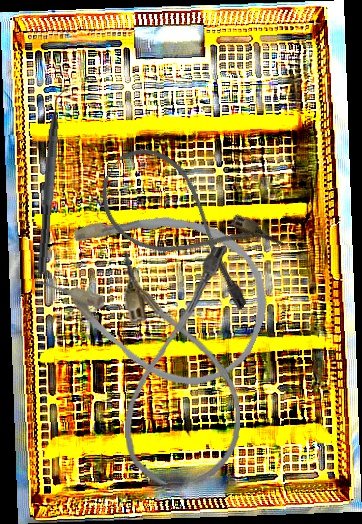Cannula: (23, 175, 289, 406), (84, 134, 289, 316), (118, 246, 243, 485)
Chopper: (37, 81, 73, 277)
